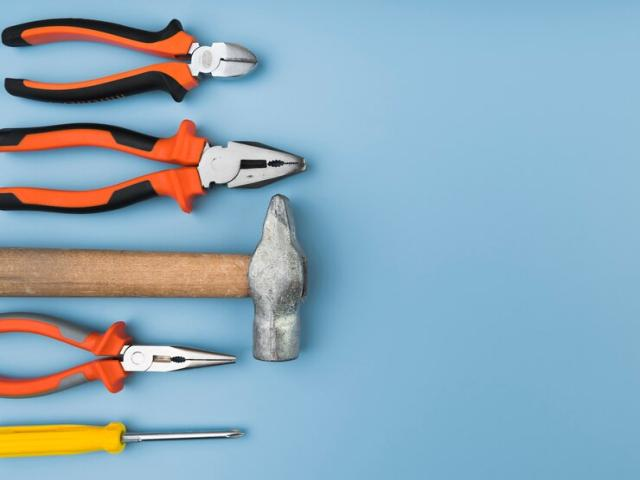Cutting pliers: (1, 19, 258, 103)
Hammer: (0, 195, 306, 361)
Needle-nose pliers: (0, 313, 236, 397)
Pliers: (0, 120, 306, 213)
Screwdriver: (0, 422, 245, 456)
